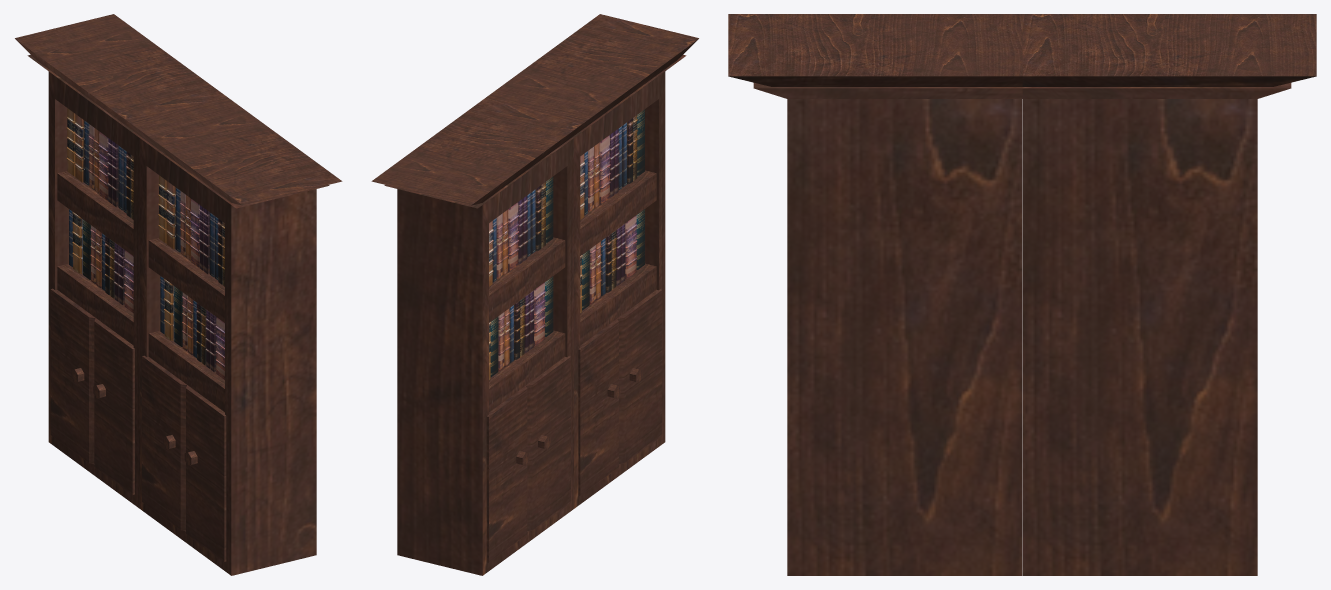
The model's file is EstanteDeLivros3.fbx.
3 renders of one model, left to right at view 1: azimuth 30°, elevation 25°; view 2: azimuth 150°, elevation 25°; view 3: azimuth 270°, elevation 25°, orthographic. The views are drawn at different scales.
Parts seen in each view (by area): view 1: Estante de livros3; view 2: Estante de livros3; view 3: Estante de livros3.
Boxes of the visible parts, x1,y1,x2,y2 form: Estante de livros3: (15,14,342,575); Estante de livros3: (371,14,698,575); Estante de livros3: (728,14,1316,575).
Bounding box in the file's own units: 112 × 420 × 447.
